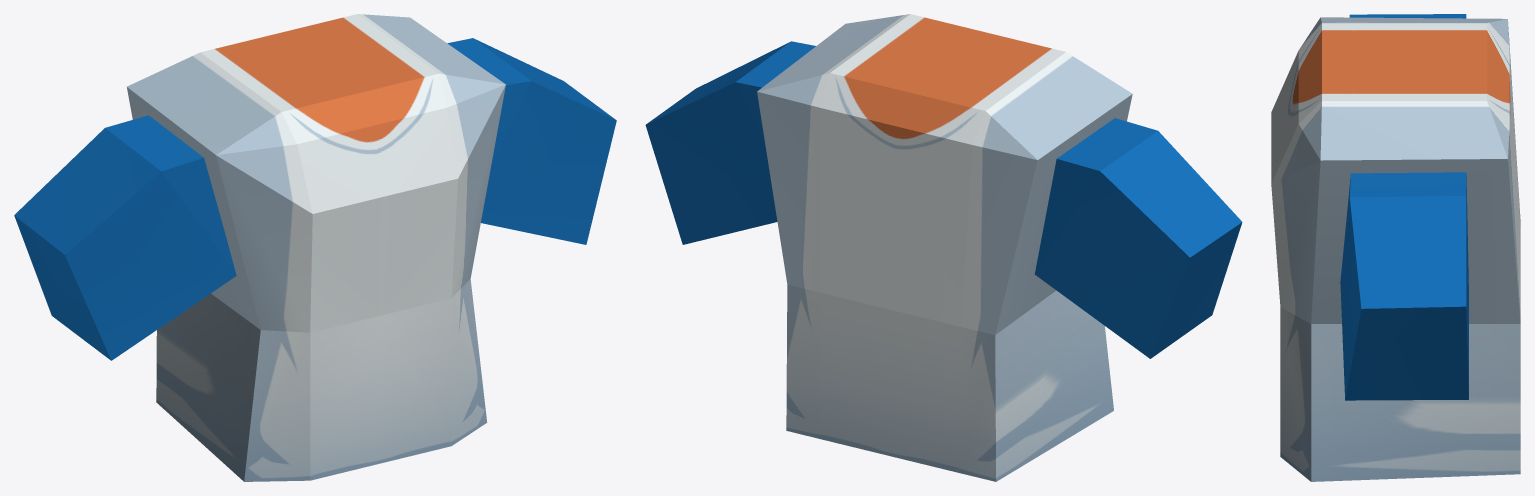
File: Shirt.fbx
3 views of the same model, side by side, from view 1: azimuth 30°, elevation 25°; view 2: azimuth 150°, elevation 25°; view 3: azimuth 270°, elevation 25° (orthographic). The views are drawn at different scales.
Visible parts, largest first — view 1: Cloth_Body, Cloth_Right_Arm.001, Cloth_Left_Arm.001; view 2: Cloth_Body, Cloth_Right_Arm.001, Cloth_Left_Arm.001; view 3: Cloth_Body, Cloth_Left_Arm.001, Cloth_Right_Arm.001.
Boxes of the visible parts, <box> form: Cloth_Body: <box>127,14,505,481</box>; Cloth_Right_Arm.001: <box>14,115,236,360</box>; Cloth_Left_Arm.001: <box>447,38,616,244</box>; Cloth_Body: <box>757,14,1132,481</box>; Cloth_Right_Arm.001: <box>1034,118,1242,358</box>; Cloth_Left_Arm.001: <box>645,41,815,244</box>; Cloth_Body: <box>1271,17,1520,481</box>; Cloth_Left_Arm.001: <box>1340,172,1468,400</box>; Cloth_Right_Arm.001: <box>1349,14,1466,18</box>.
Bounding box in the file's own units: 62.42 × 38.43 × 24.14.
